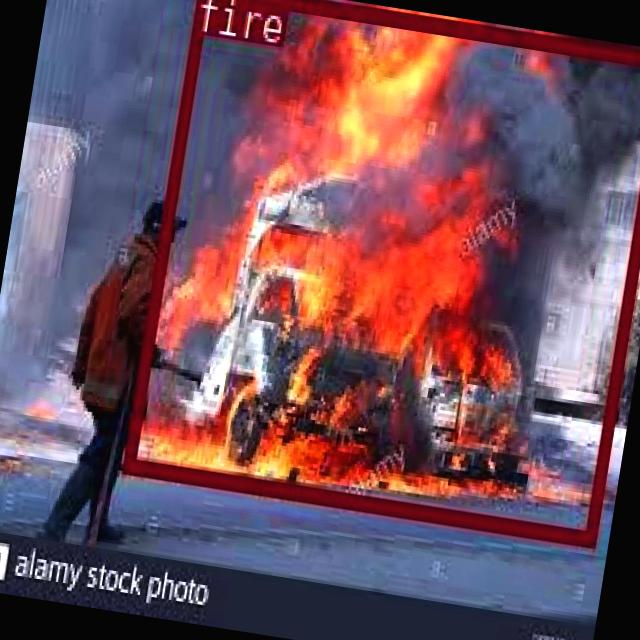fire: (121, 0, 640, 543)
